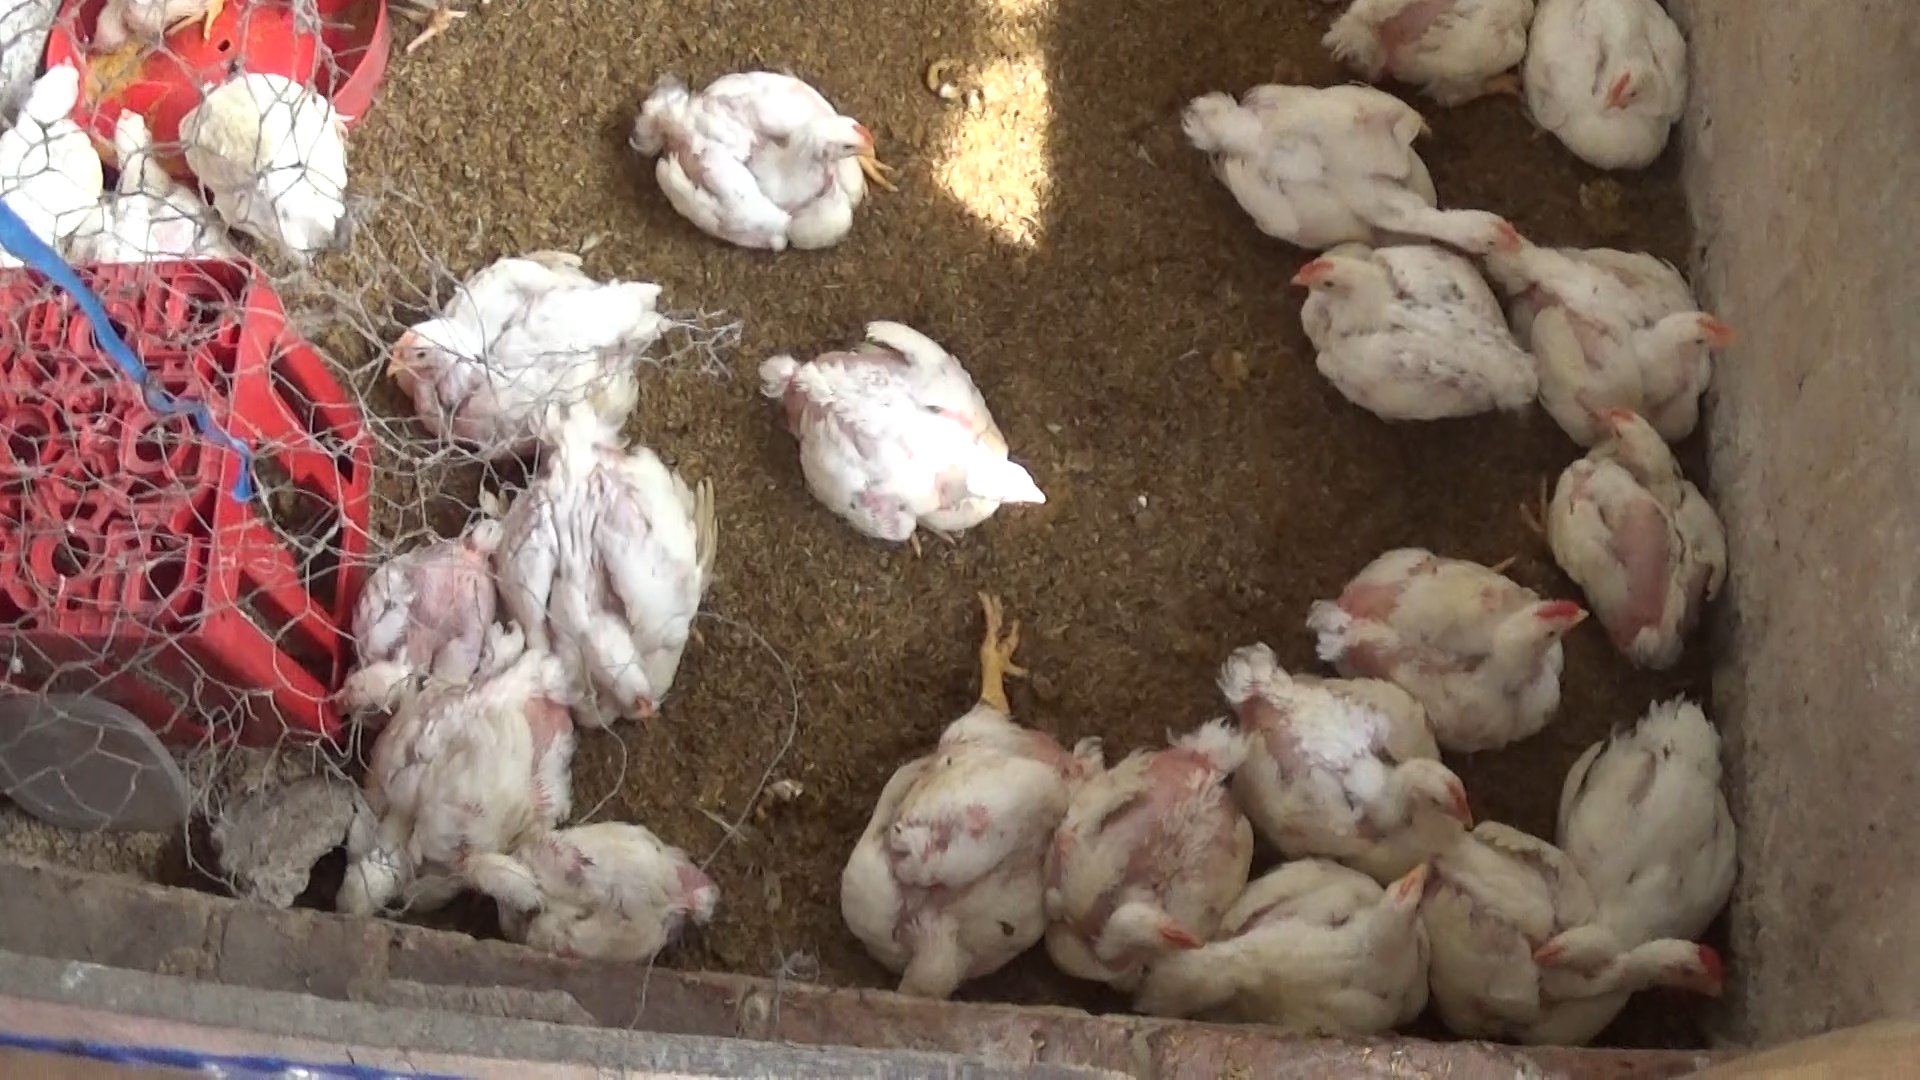Pollos: (1313, 498, 1601, 766), (1015, 694, 1276, 984), (1200, 601, 1481, 862), (760, 314, 1054, 563), (1171, 74, 1522, 277), (315, 662, 578, 916), (1422, 823, 1721, 1040), (843, 698, 1054, 1006), (514, 429, 736, 712), (381, 239, 671, 440), (1286, 223, 1549, 444), (1130, 851, 1443, 1034), (1480, 232, 1737, 447), (625, 61, 881, 255), (1556, 377, 1717, 684), (1560, 684, 1755, 928), (338, 491, 510, 721), (491, 825, 731, 968), (182, 55, 347, 247), (1528, 0, 1695, 182), (82, 108, 214, 262), (0, 49, 102, 241)
